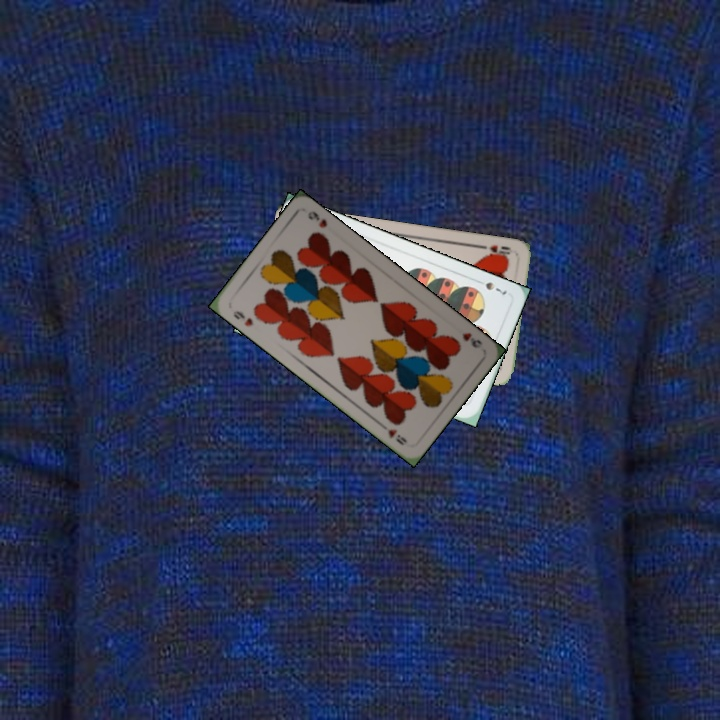H9: (458, 328, 485, 351), (229, 307, 255, 329)
HO: (476, 241, 513, 260)
S7: (472, 276, 510, 297)
